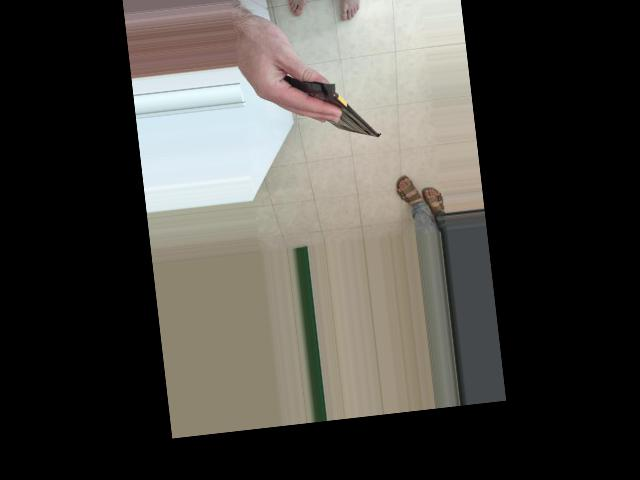chocolate: (341, 79, 433, 187)
